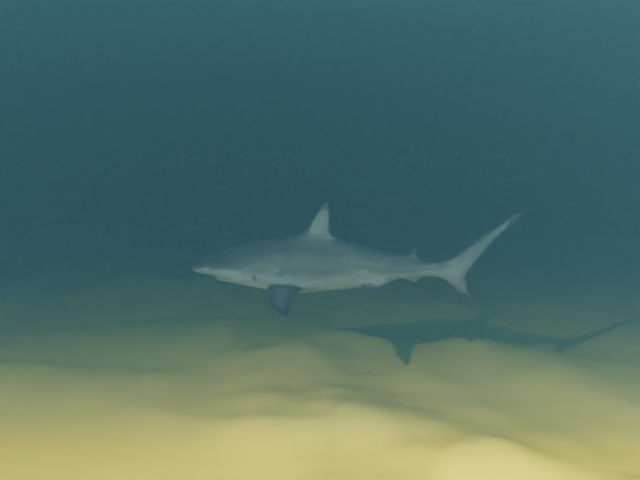Carribean Shark.001: (191, 202, 523, 316)
